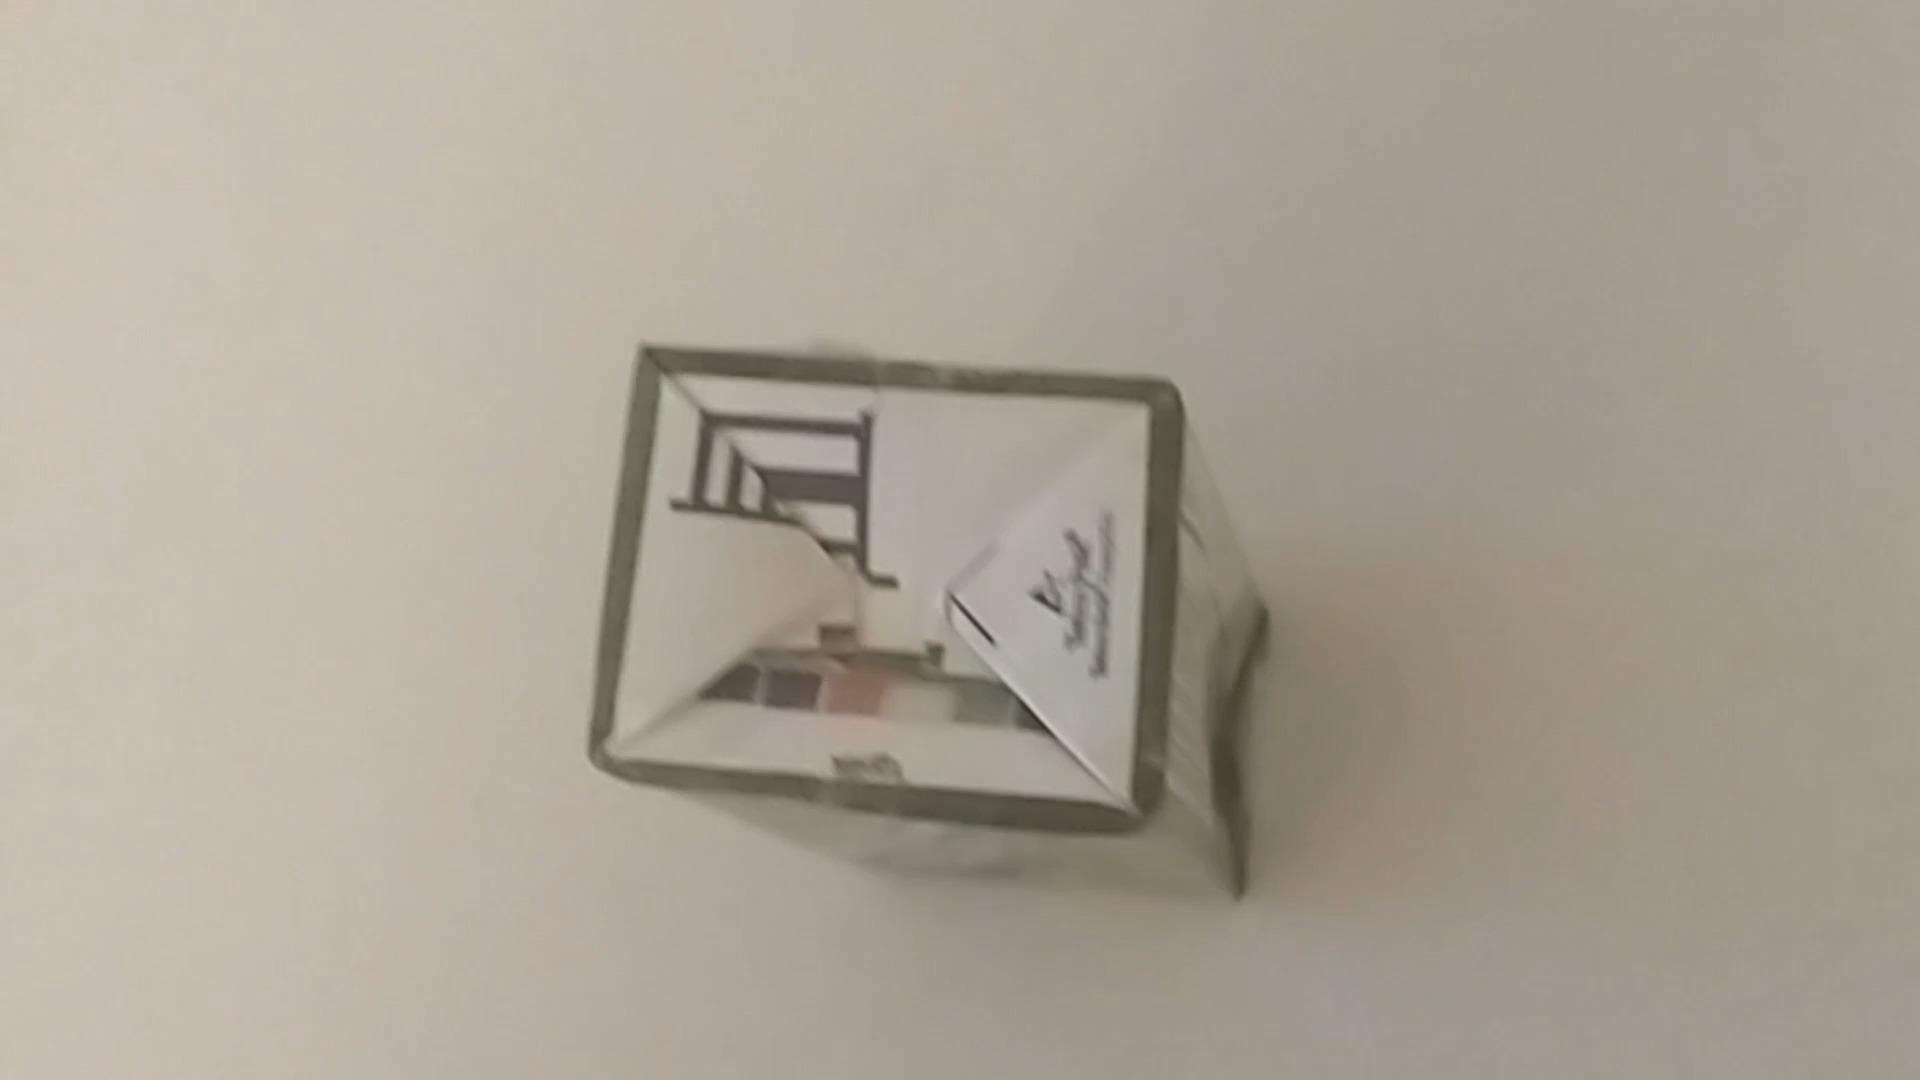coco: (585, 323, 1275, 913)
